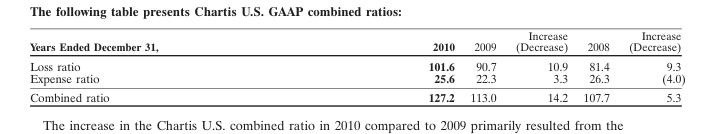table: (29, 28, 684, 103)
table column: (29, 28, 292, 103), (292, 28, 461, 103), (505, 28, 574, 103), (618, 28, 684, 103), (461, 28, 505, 103), (574, 28, 618, 103)
table column header: (29, 28, 684, 55)
table row: (29, 28, 684, 55), (29, 55, 684, 71), (29, 71, 684, 87), (29, 87, 684, 103)
